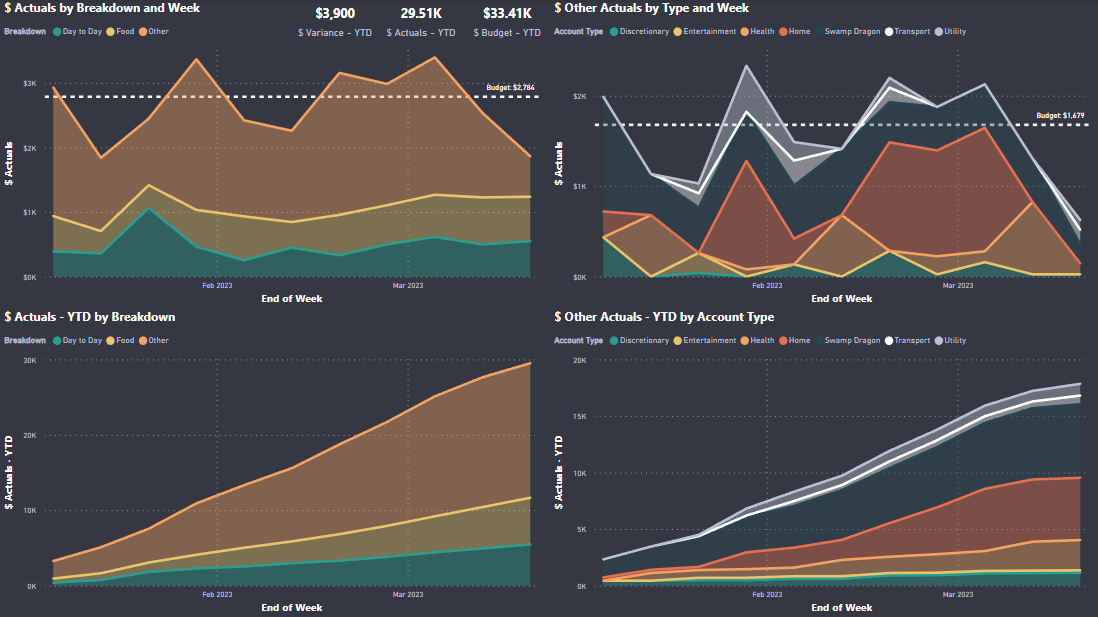

The dashboard page shown, as its layout file describes it:
{"tool":"powerbi","page":{"name":"Trends","canvas":[1280,720],"ordinal":3},"visuals":[{"type":"stackedAreaChart","title":"$ Actuals by Breakdown and Week","fields":{"Category":["Date.End of Week"],"Y":["_measures.$ Actuals"],"Series":["Account.Breakdown"]},"box":[0,0,640.1,360],"z":0},{"type":"stackedAreaChart","title":"$ Other Actuals by Type and Week","fields":{"Category":["Date.End of Week"],"Series":["Account.Account Type"],"Y":["_measures.$ Actuals"]},"box":[640.1,0,640.1,360],"z":1000},{"type":"stackedAreaChart","title":"$ Actuals - YTD by Breakdown","fields":{"Series":["Account.Breakdown"],"Y":["_measures.$ Actuals - YTD"],"Category":["Date.End of Week"]},"box":[0,360,640.1,360],"z":2000},{"type":"stackedAreaChart","title":"$ Other Actuals - YTD by Account Type","fields":{"Series":["Account.Account Type"],"Y":["_measures.$ Actuals - YTD"],"Category":["Date.End of Week"]},"box":[640.1,360,640.1,360],"z":3000},{"type":"card","fields":{"Values":["_measures.$ Budget - YTD"]},"box":[540,0,100.1,49.8],"z":4000},{"type":"card","fields":{"Values":["_measures.$ Actuals - YTD"]},"box":[439.9,0,100.1,49.8],"z":5000},{"type":"card","fields":{"Values":["_measures.$ Variance - YTD"]},"box":[339.7,0,100.1,49.8],"z":6000}]}

Visuals, with their boxes in screenshot pixels (x1, y1, x2, y2), scaled from the page's 1280x720 canvas onto the 1098x617 screenshot:
"$ Actuals by Breakdown and Week" stackedAreaChart: [0,0,549,308]
"$ Other Actuals by Type and Week" stackedAreaChart: [549,0,1097,308]
"$ Actuals - YTD by Breakdown" stackedAreaChart: [0,308,549,616]
"$ Other Actuals - YTD by Account Type" stackedAreaChart: [549,308,1097,616]
card - _measures.$ Budget - YTD: [463,0,549,43]
card - _measures.$ Actuals - YTD: [377,0,463,43]
card - _measures.$ Variance - YTD: [291,0,377,43]
